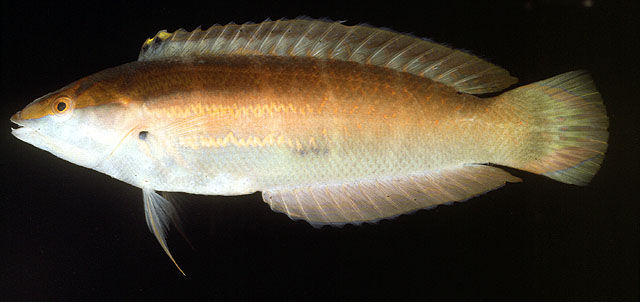fish: (11, 17, 610, 275)
